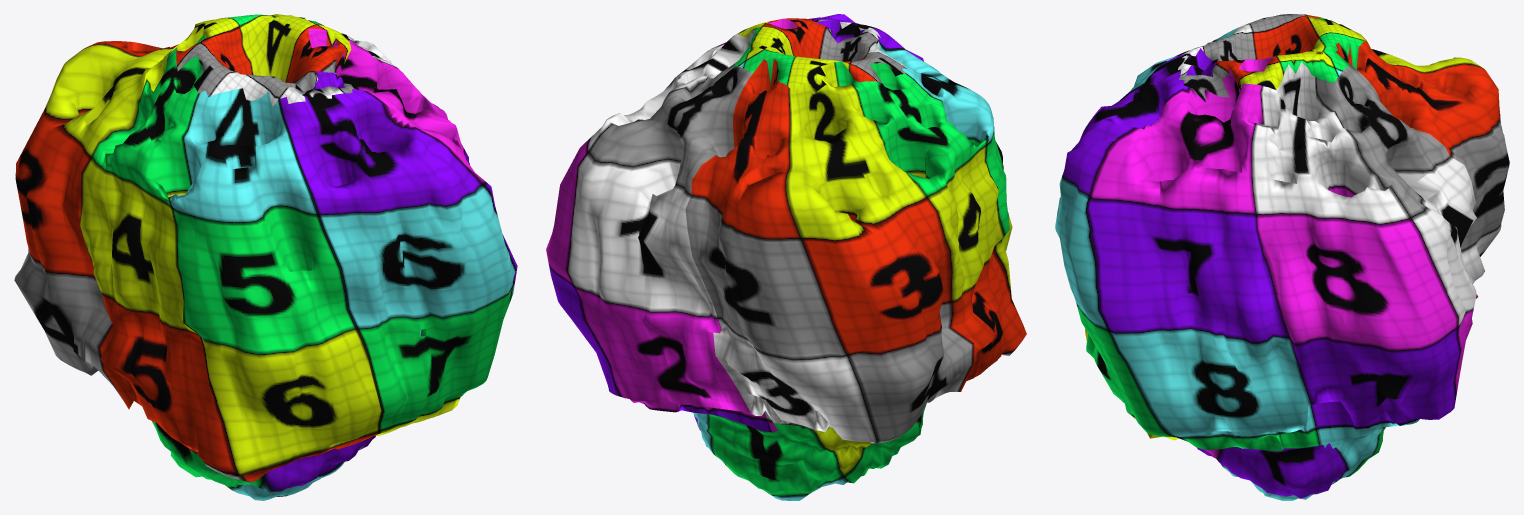
File: Spiky Cavern.fbx
3 renders of one model, left to right at view 1: azimuth 30°, elevation 25°; view 2: azimuth 150°, elevation 25°; view 3: azimuth 270°, elevation 25°, orthographic. The views are drawn at different scales.
Visible parts, largest first — view 1: pCube11; view 2: pCube11; view 3: pCube11.
Part boxes in pixels (x1,y1,x2,y2): pCube11: [14, 14, 517, 500]; pCube11: [546, 14, 1026, 500]; pCube11: [1055, 14, 1509, 500].
Size of the model in its own units: 1080 by 1225 by 1125.
1 material, 1 textured.
